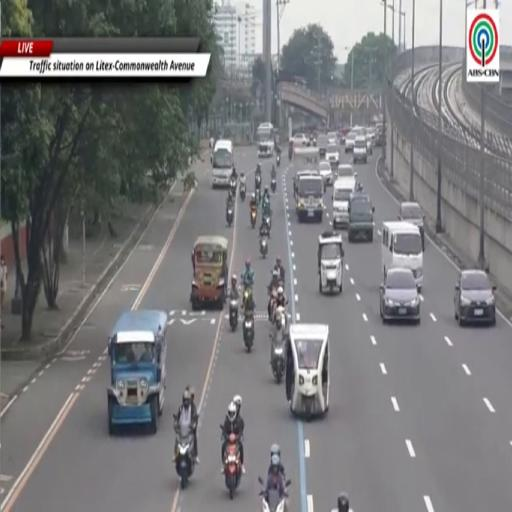car: (454, 269, 496, 326), (380, 267, 420, 324), (399, 202, 425, 251), (353, 136, 367, 164), (319, 160, 332, 189), (325, 144, 339, 168), (344, 131, 356, 154), (292, 134, 309, 147), (327, 133, 337, 145)
jeepney: (108, 311, 167, 435), (191, 236, 228, 310), (348, 192, 374, 242)
motorcycle: (174, 415, 195, 488), (270, 308, 287, 383), (258, 477, 291, 511), (224, 434, 241, 499), (270, 331, 286, 384), (243, 313, 254, 351), (268, 287, 276, 323), (229, 299, 238, 331), (242, 286, 252, 311), (260, 234, 267, 259), (264, 216, 271, 236), (227, 206, 233, 227), (251, 208, 257, 228), (240, 183, 246, 201), (230, 179, 236, 196), (255, 188, 261, 204), (255, 174, 261, 189), (288, 146, 293, 161), (271, 179, 276, 193), (357, 183, 363, 193), (277, 154, 280, 166)
truck: (256, 123, 274, 157)
